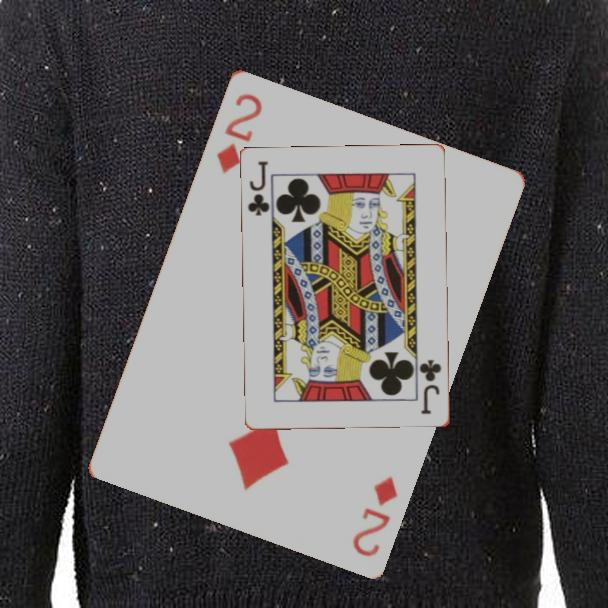c11: (245, 158, 273, 219), (417, 357, 444, 417)
d02: (212, 89, 265, 176), (348, 472, 400, 559)
